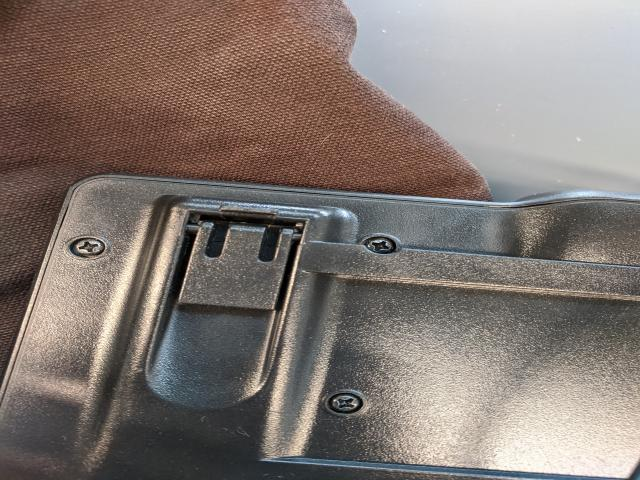CRS: (329, 392, 362, 416), (68, 237, 107, 255), (363, 236, 395, 255)
